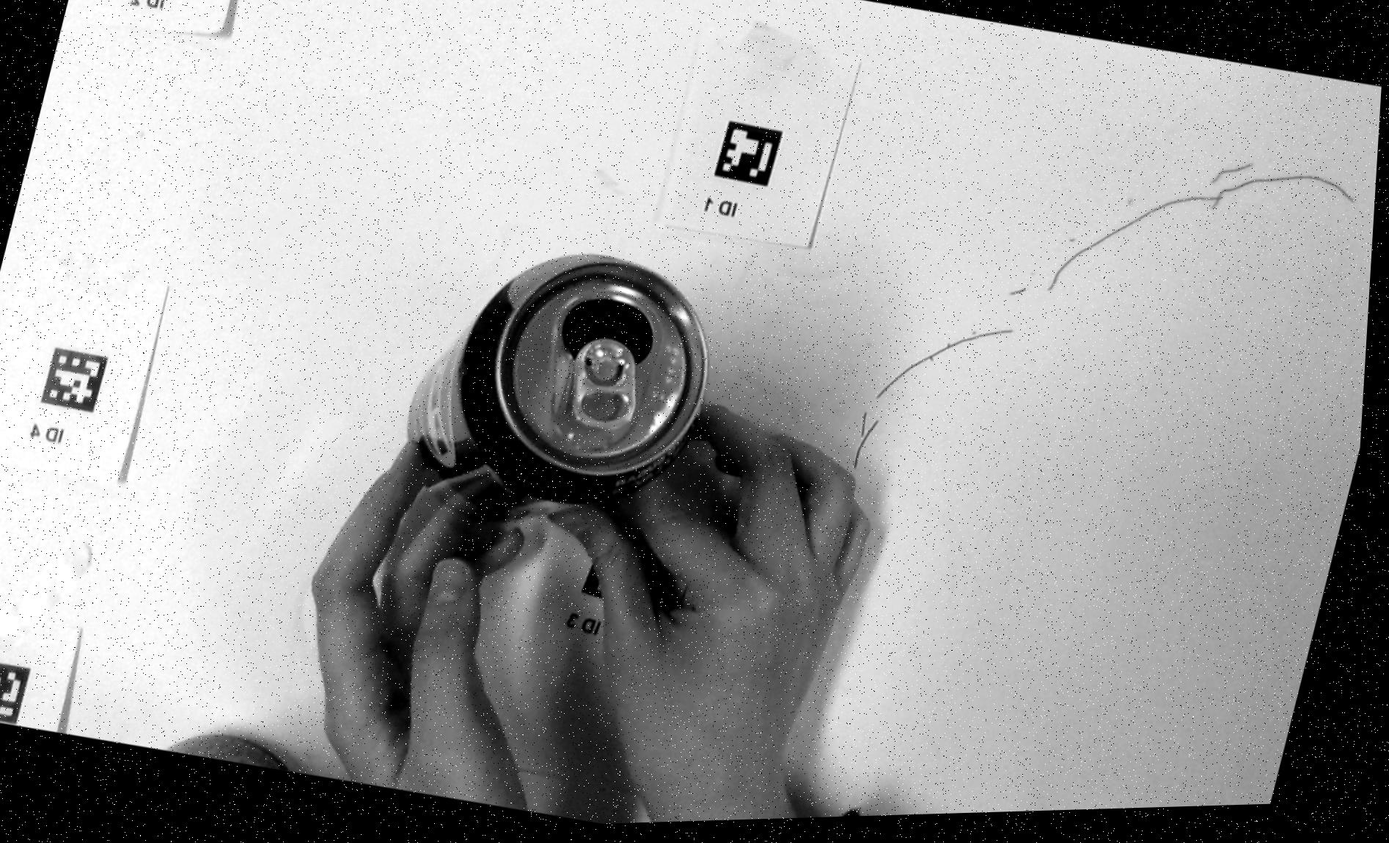can_pepsi_zero: (408, 254, 708, 518)
